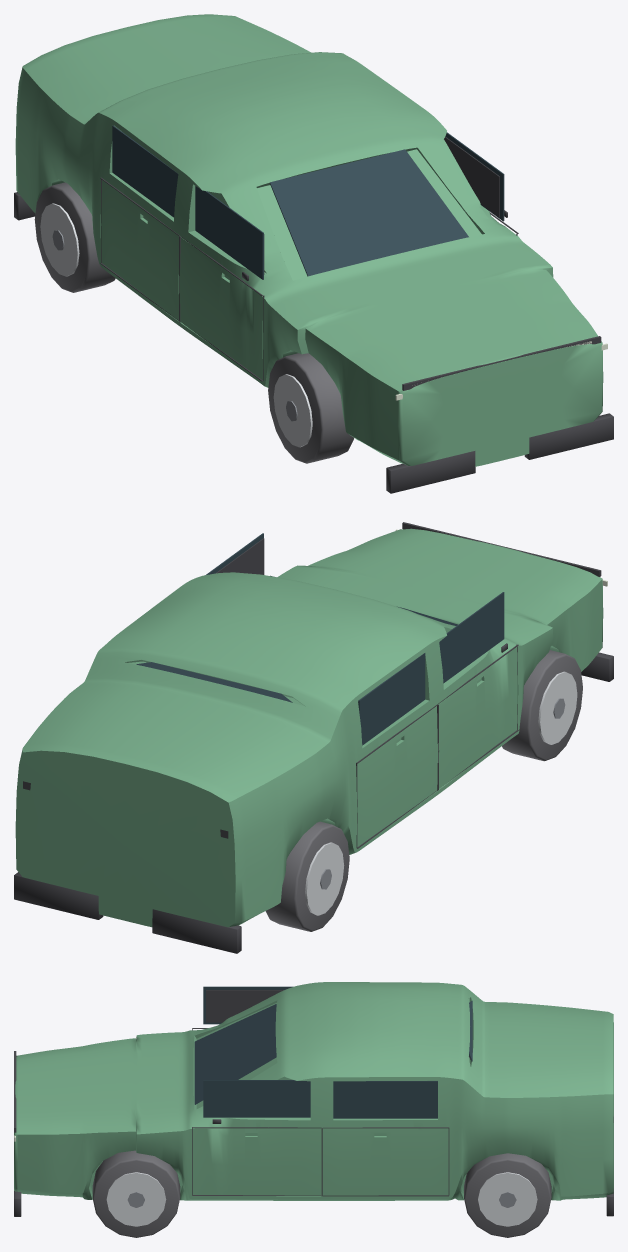
The model's file is Hatch_Compact_26.fbx.
3 renders of one model, top to bottom at view 1: azimuth 30°, elevation 25°; view 2: azimuth 150°, elevation 25°; view 3: azimuth 270°, elevation 25°, orthographic. The views are drawn at different scales.
Parts seen in each view (by area): view 1: LOD0; view 2: LOD0; view 3: LOD0.
Part boxes in pixels (<box>): LOD0: <box>14,14,613,493</box>; LOD0: <box>14,522,613,953</box>; LOD0: <box>14,982,613,1237</box>.
Size of what is drawn, in the model's own units: 182 by 141 by 442.
